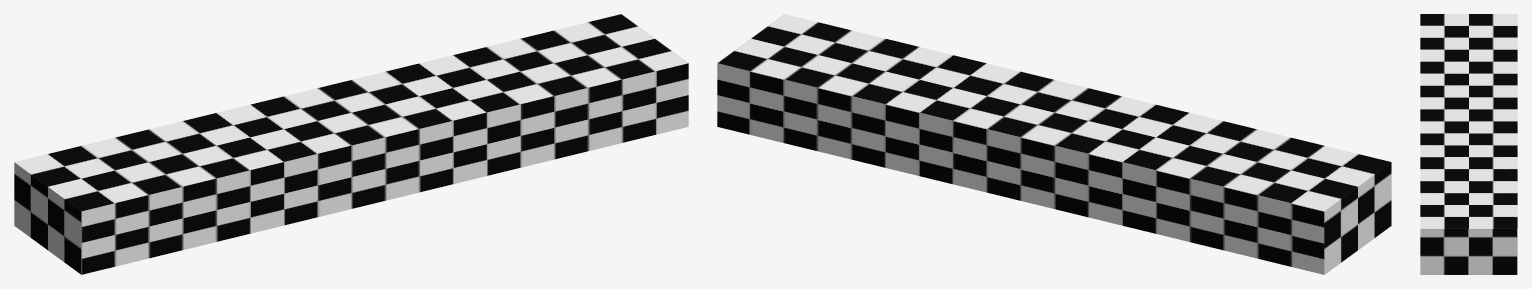
Rendered from start point new.FBX.
3 views of the same model, side by side, from view 1: azimuth 30°, elevation 25°; view 2: azimuth 150°, elevation 25°; view 3: azimuth 270°, elevation 25° (orthographic). The views are drawn at different scales.
Visible parts, largest first — view 1: starting_point; view 2: starting_point; view 3: starting_point.
Part boxes in pixels (box(x1,y1,x2,y2)): starting_point: box(14, 14, 688, 274); starting_point: box(717, 14, 1391, 274); starting_point: box(1420, 14, 1517, 274).
Size of the model in its own units: 561 by 56.09 by 108.
